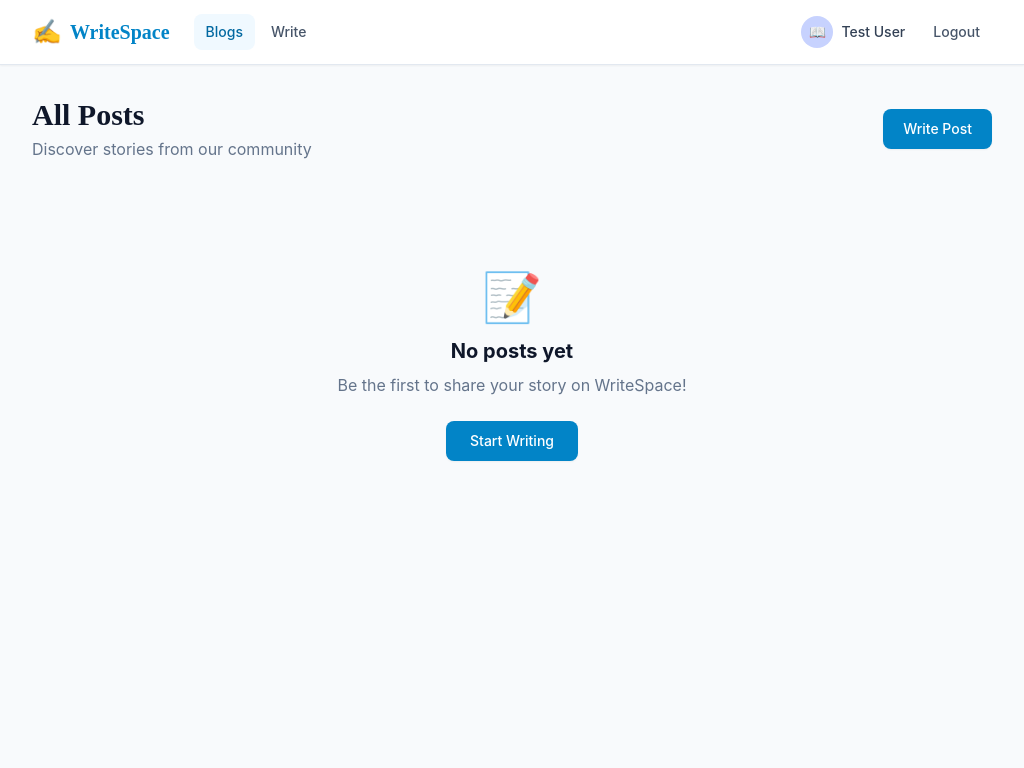
Test: App › navigation › logout redirects to login page
Check: the heading "All Posts" is shown, box [32, 98, 144, 131]
Click the button "Logout" at (957, 32), box [921, 14, 992, 50]
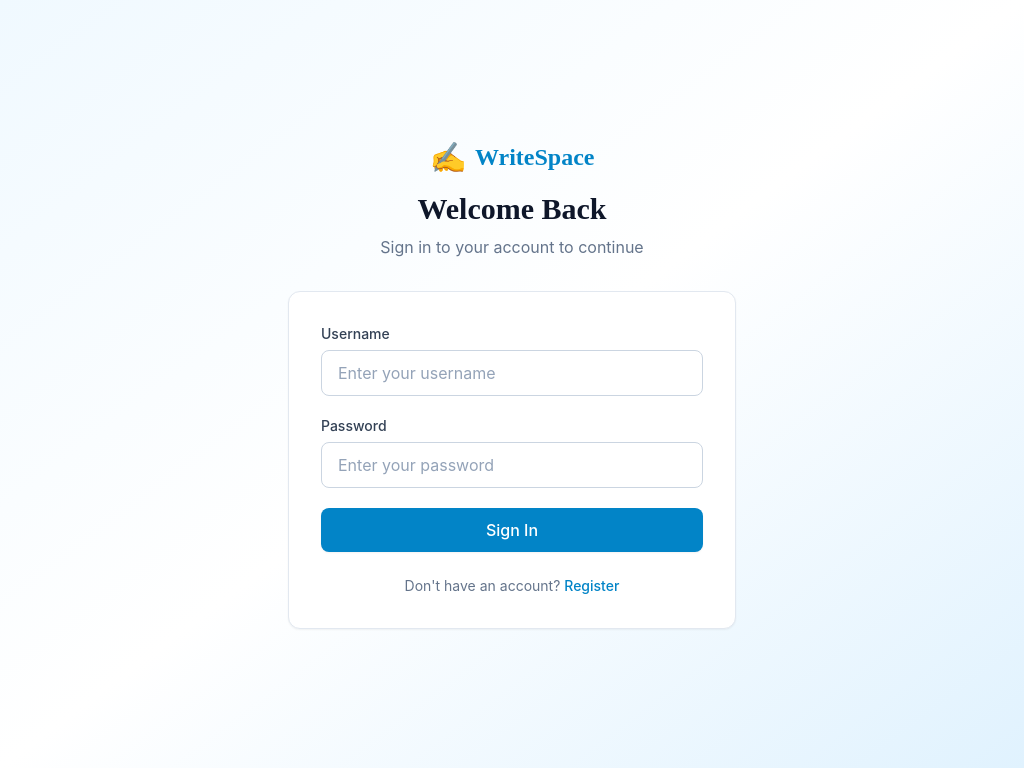
Check: the heading "Welcome Back" is shown, box [417, 192, 606, 225]
